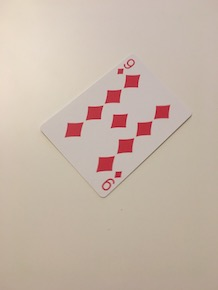NineOfDiamonds: (37, 51, 195, 200)
